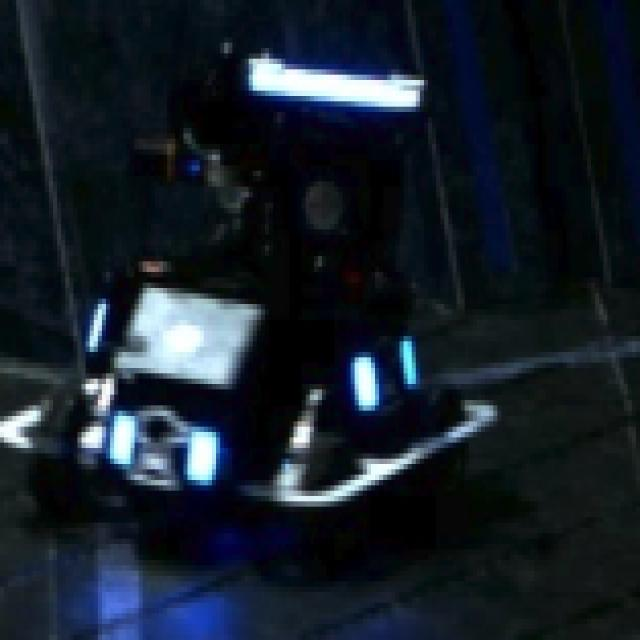Bs: (114, 395, 216, 501), (355, 330, 424, 410)
